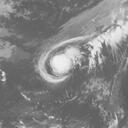cyclone: (38, 41, 82, 86)
